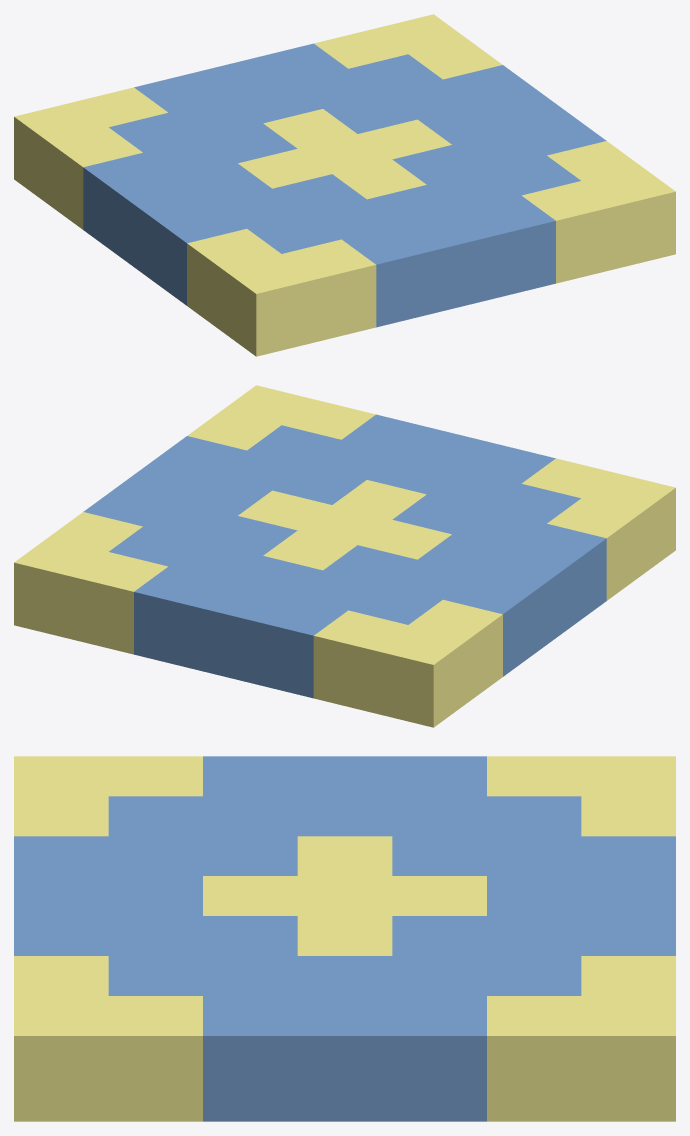
File: Brick2.obj
The picture shows the model from 3 angles, top to bottom: view 1: azimuth 30°, elevation 25°; view 2: azimuth 150°, elevation 25°; view 3: azimuth 270°, elevation 25°; orthographic projection. The views are drawn at different scales.
Parts seen in each view (by area): view 1: Brick2; view 2: Brick2; view 3: Brick2.
Part boxes in pixels (x1,y1,x2,y2): Brick2: (14, 14, 675, 356); Brick2: (14, 385, 675, 727); Brick2: (14, 756, 675, 1121).
Size of the model in its own units: 7 by 1 by 7.
Materials: 1 (1 with a texture image).
